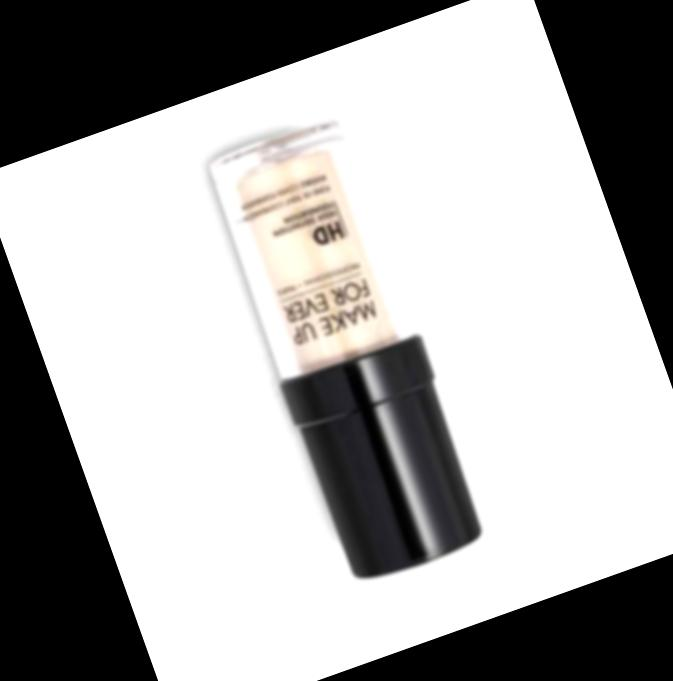cosmetic: (196, 109, 498, 590)
